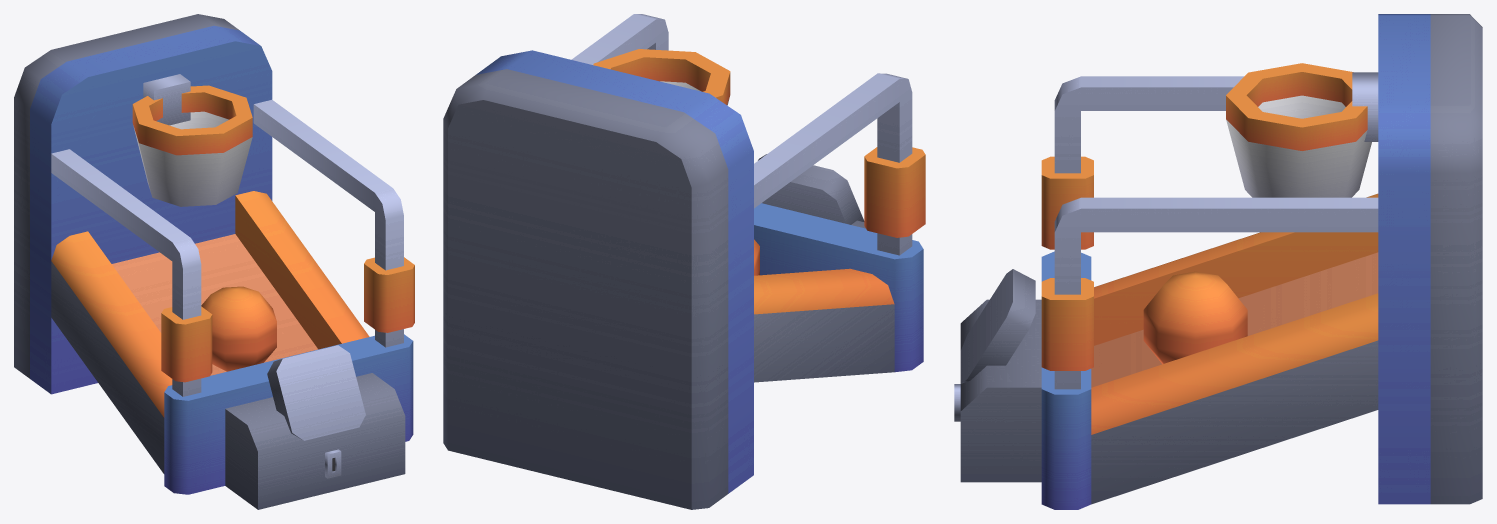
The model's file is basketball-game.glb.
3 renders of one model, left to right at view 1: azimuth 30°, elevation 25°; view 2: azimuth 150°, elevation 25°; view 3: azimuth 270°, elevation 25°, orthographic. The views are drawn at different scales.
Visible parts, largest first — view 1: basketball-game, ball; view 2: basketball-game; view 3: basketball-game, ball.
Part boxes in pixels (left/top/right/bottom): basketball-game: left=14, top=14, right=414, bottom=509; ball: left=201, top=286, right=276, bottom=371; basketball-game: left=443, top=14, right=925, bottom=509; basketball-game: left=954, top=14, right=1482, bottom=509; ball: left=1143, top=271, right=1247, bottom=364.
Size of the model in its own units: 0.65 by 0.8 by 1.01.
1 material, 1 textured.
